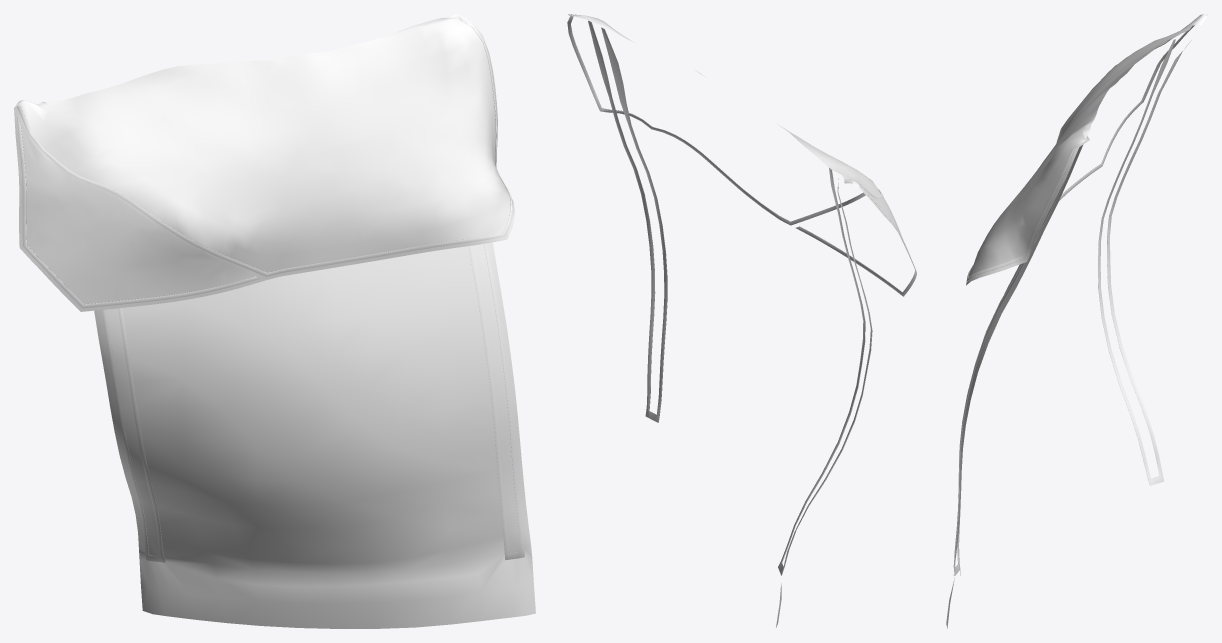
The model's file is Jac_Pocket_LEFT_V1.glb.
3 views of the same model, side by side, from view 1: azimuth 30°, elevation 25°; view 2: azimuth 150°, elevation 25°; view 3: azimuth 270°, elevation 25° (orthographic). The views are drawn at different scales.
Parts seen in each view (by area): view 1: Jac_Pocket_LEFT_V1.001, Jac_Rope_Pocket_LEFT_V1.001; view 2: Jac_Rope_Pocket_LEFT_V1.001, Jac_Pocket_LEFT_V1.001; view 3: Jac_Pocket_LEFT_V1.001, Jac_Rope_Pocket_LEFT_V1.001.
Boxes of the visible parts, <box> form: Jac_Pocket_LEFT_V1.001: <box>14,14,535,628</box>; Jac_Rope_Pocket_LEFT_V1.001: <box>17,17,524,562</box>; Jac_Rope_Pocket_LEFT_V1.001: <box>567,14,916,575</box>; Jac_Pocket_LEFT_V1.001: <box>568,14,914,627</box>; Jac_Pocket_LEFT_V1.001: <box>946,14,1207,628</box>; Jac_Rope_Pocket_LEFT_V1.001: <box>953,15,1200,575</box>.
Size of the model in its own units: 0.2157 by 0.274 by 0.1271.
2 materials, 2 textured.
